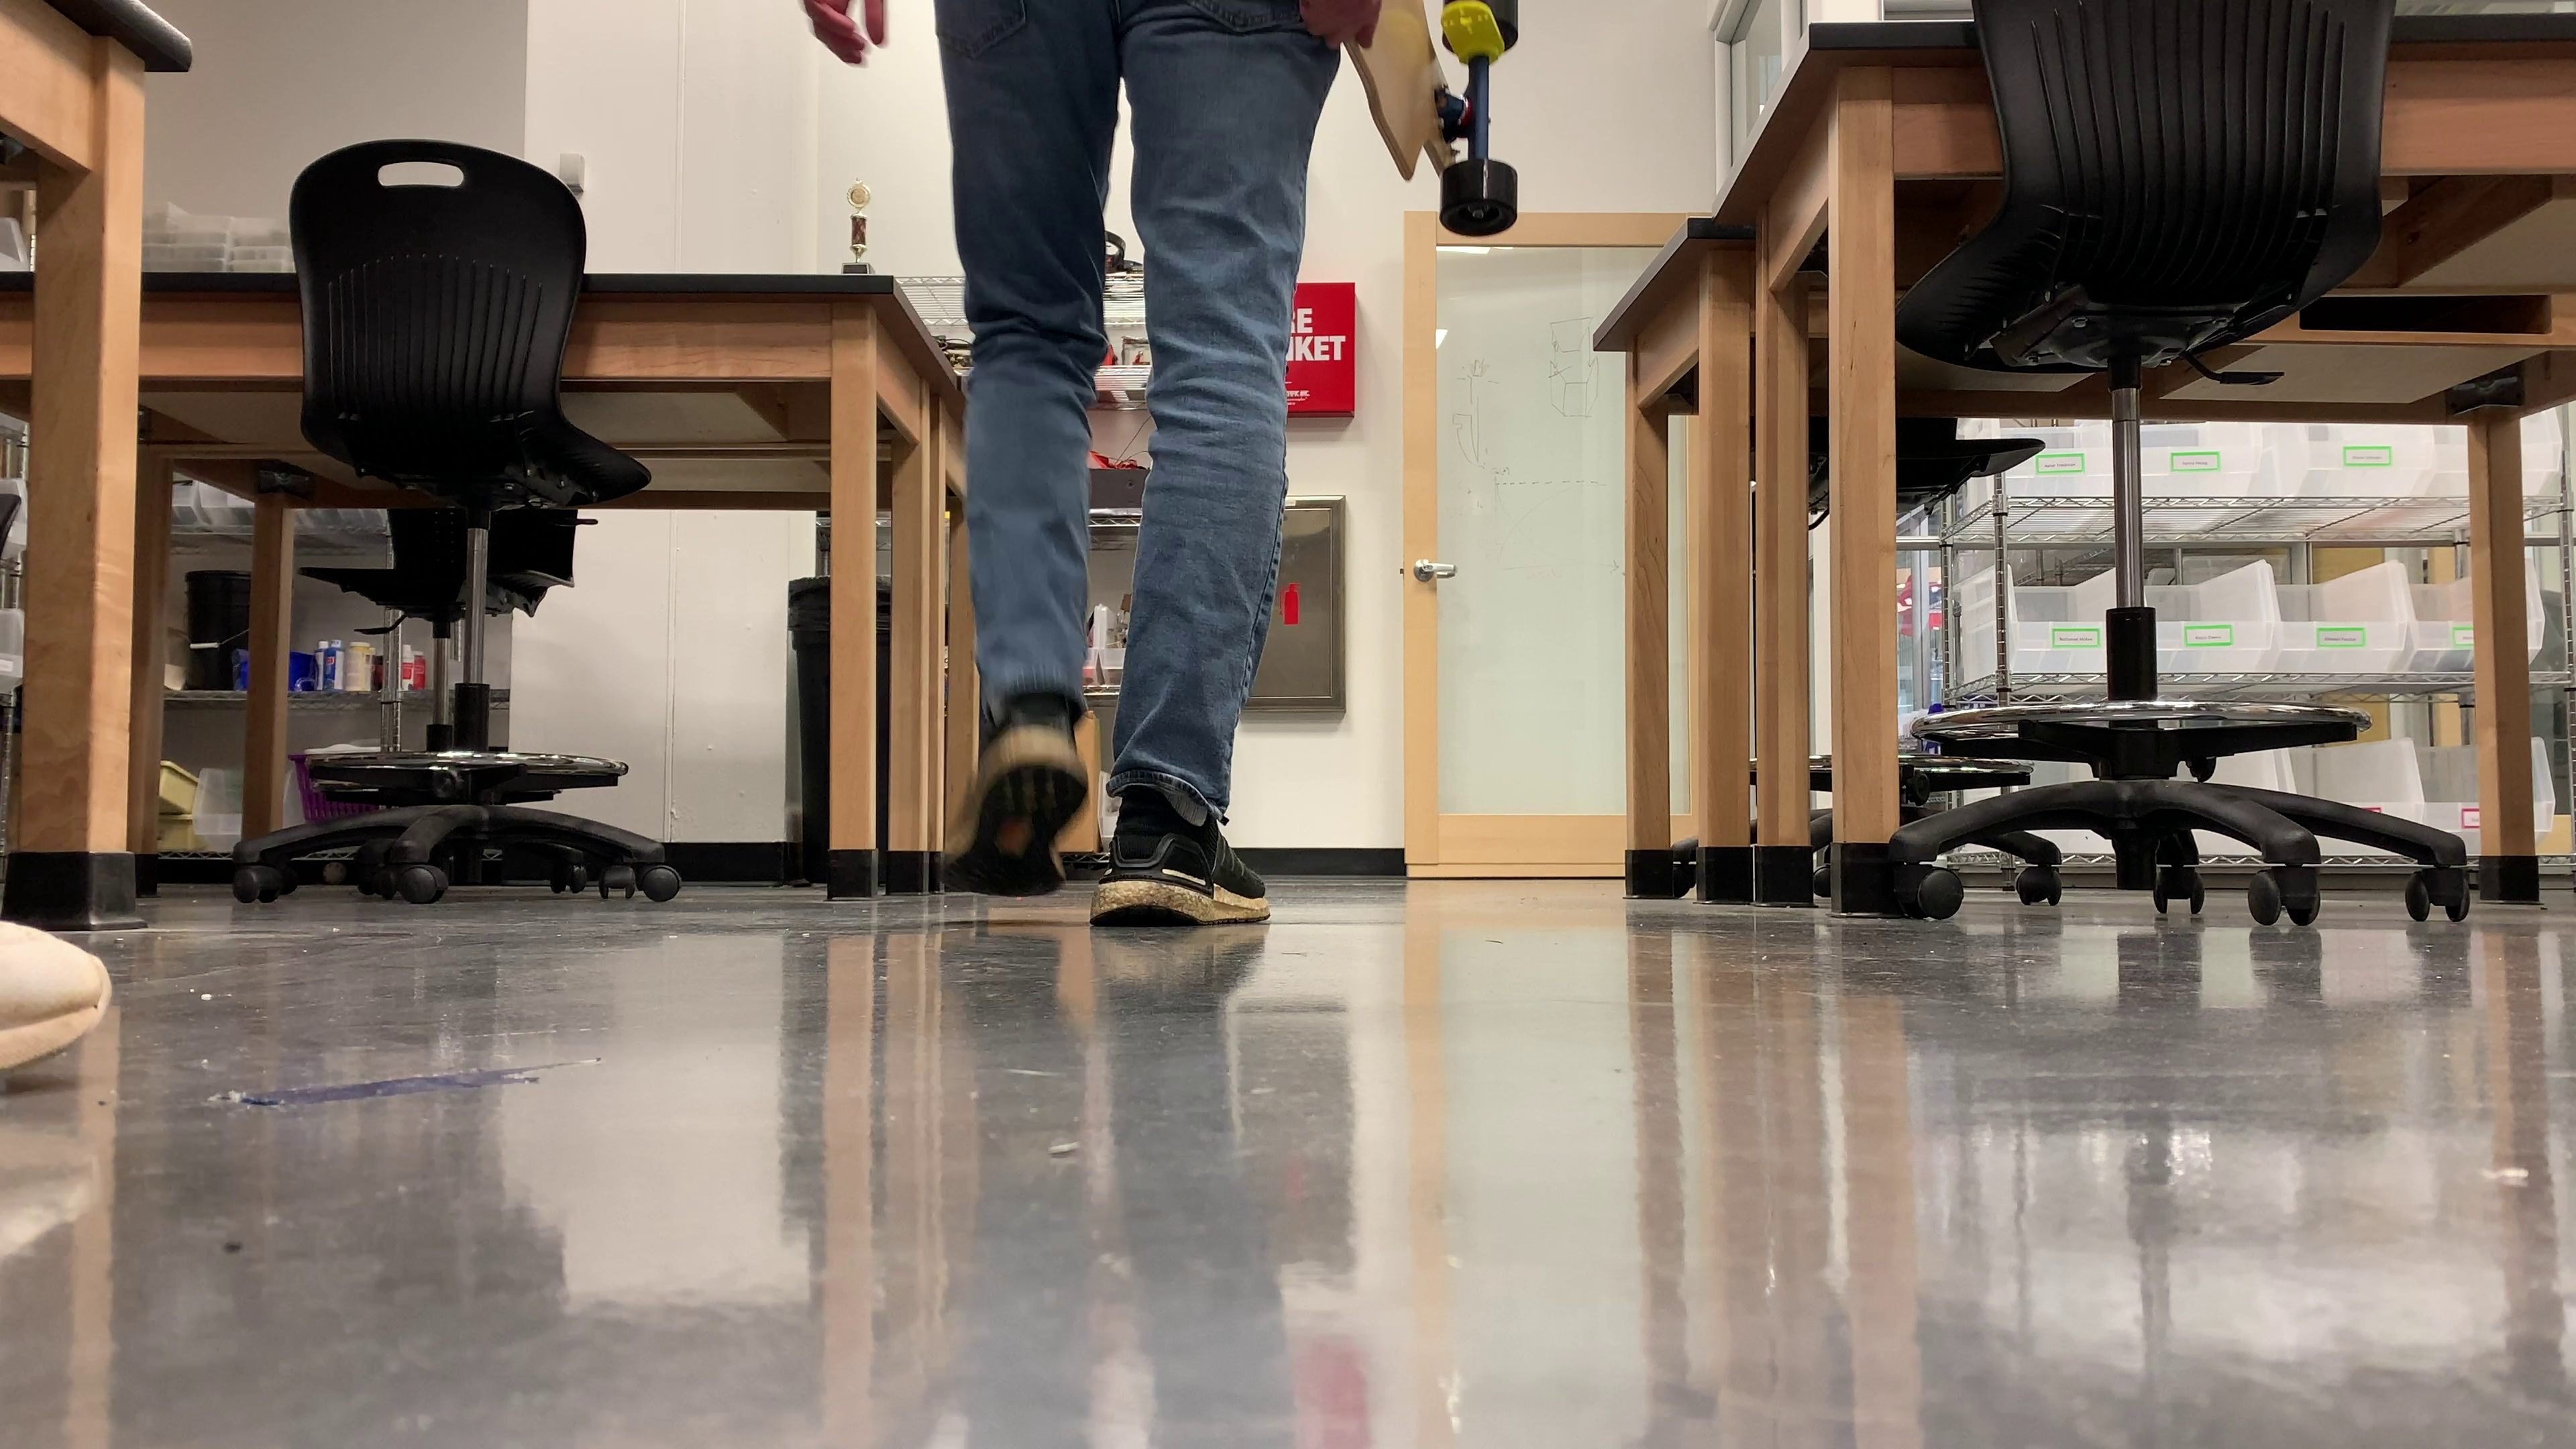shoe: (939, 690, 1086, 895), (1086, 782, 1265, 925)
